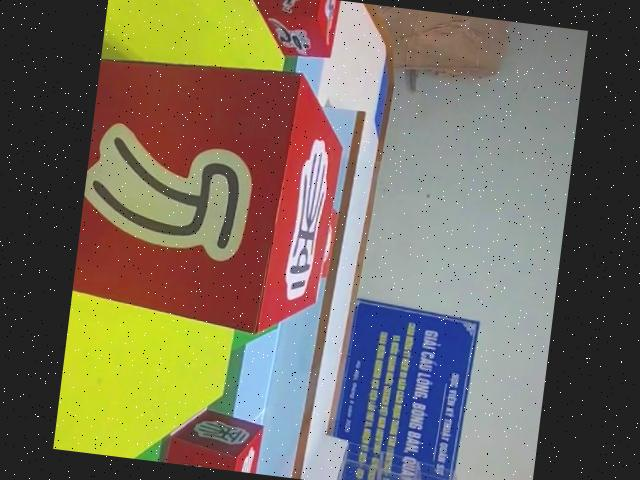R1: (241, 0, 340, 57)
R2 Fake: (69, 47, 353, 343), (158, 406, 266, 475)
